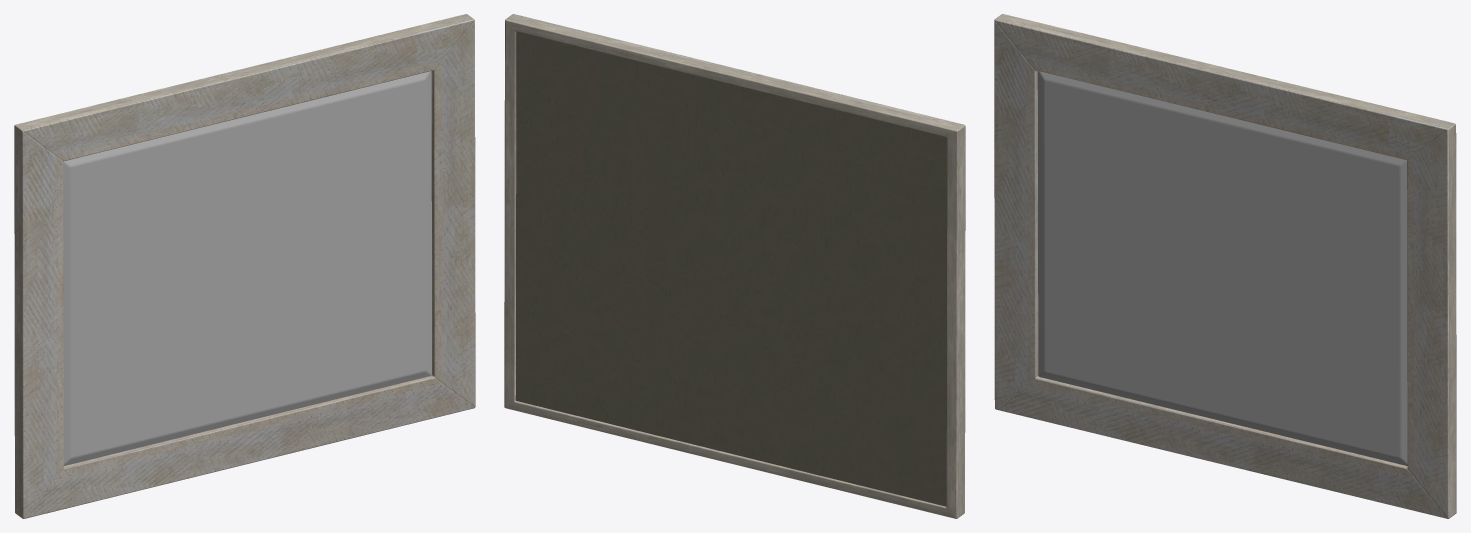
The picture shows the model from 3 angles, left to right: view 1: azimuth 30°, elevation 25°; view 2: azimuth 150°, elevation 25°; view 3: azimuth 330°, elevation 25°; orthographic projection.
Parts seen in each view (by area): view 1: RootNode; view 2: RootNode; view 3: RootNode.
Boxes of the visible parts, x1,y1,x2,y2 form: RootNode: [14, 14, 475, 518]; RootNode: [504, 14, 965, 518]; RootNode: [994, 14, 1456, 518].
Size of the model in its own units: 0.8389 by 0.6886 by 0.0275.
1 material, 1 textured.
